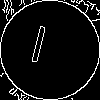I: (25, 25, 50, 73)
